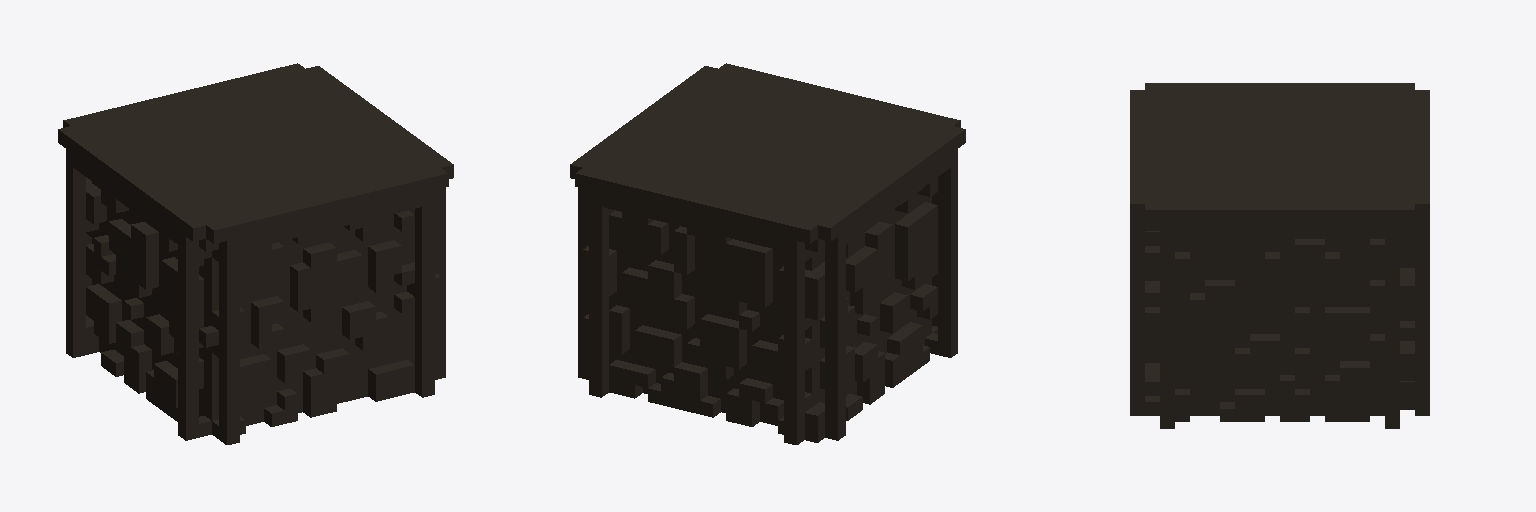
The model's file is Ground Layer.obj.
3 views of the same model, side by side, from view 1: azimuth 30°, elevation 25°; view 2: azimuth 150°, elevation 25°; view 3: azimuth 270°, elevation 25° (orthographic).
Visible parts, largest first — view 1: Ground Layer; view 2: Ground Layer; view 3: Ground Layer.
Part boxes in pixels (bbox=[...]): Ground Layer: bbox=[58, 63, 453, 444]; Ground Layer: bbox=[570, 63, 965, 444]; Ground Layer: bbox=[1130, 83, 1429, 428].
Size of the model in its own units: 1.25 by 1 by 1.25.